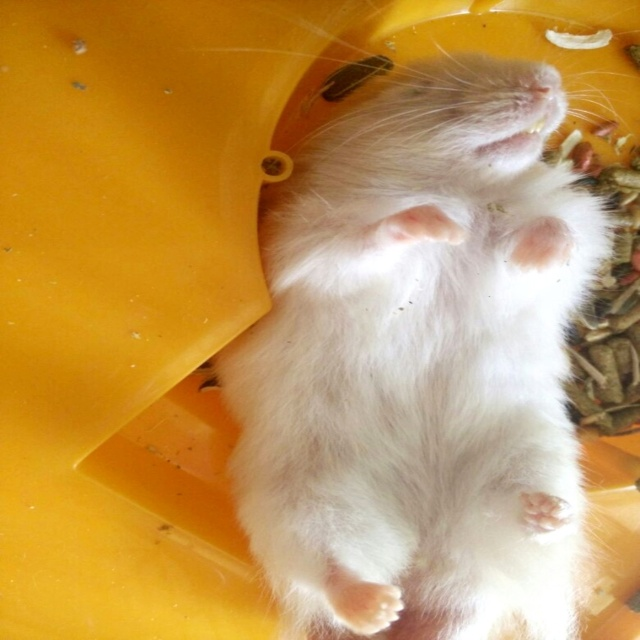Hamster: (185, 0, 640, 640)
